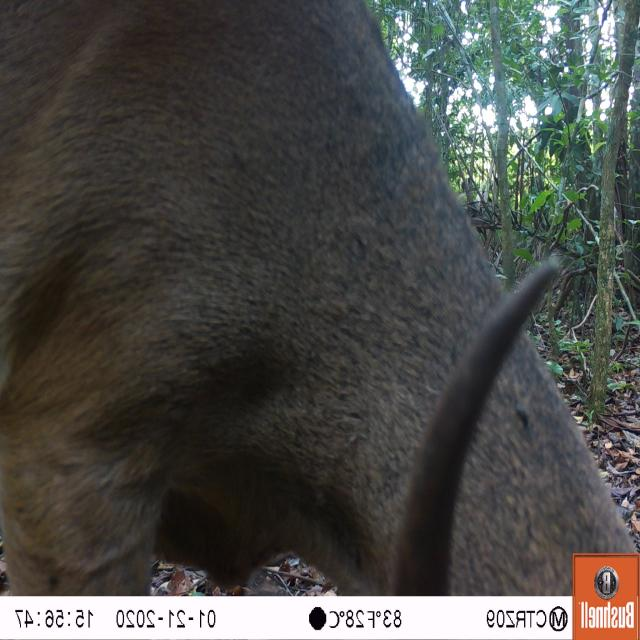White-tailed Deer: (1, 0, 637, 593)
